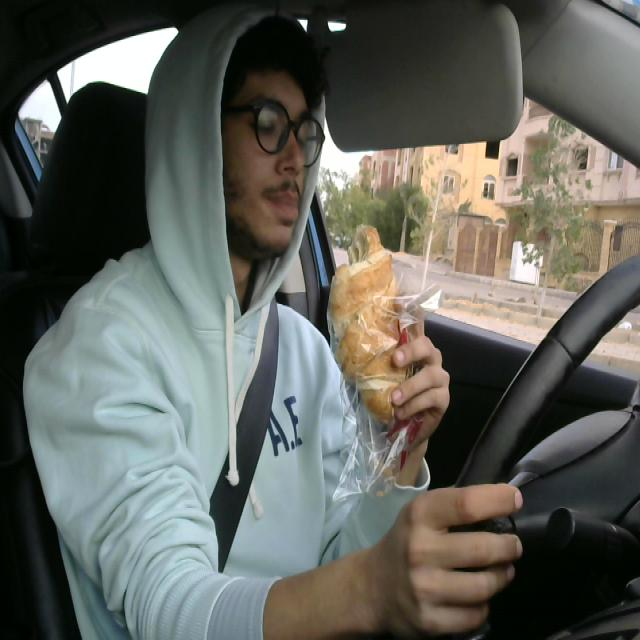eating: (321, 232, 421, 424)
